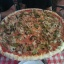pizza: (1, 9, 62, 57)
